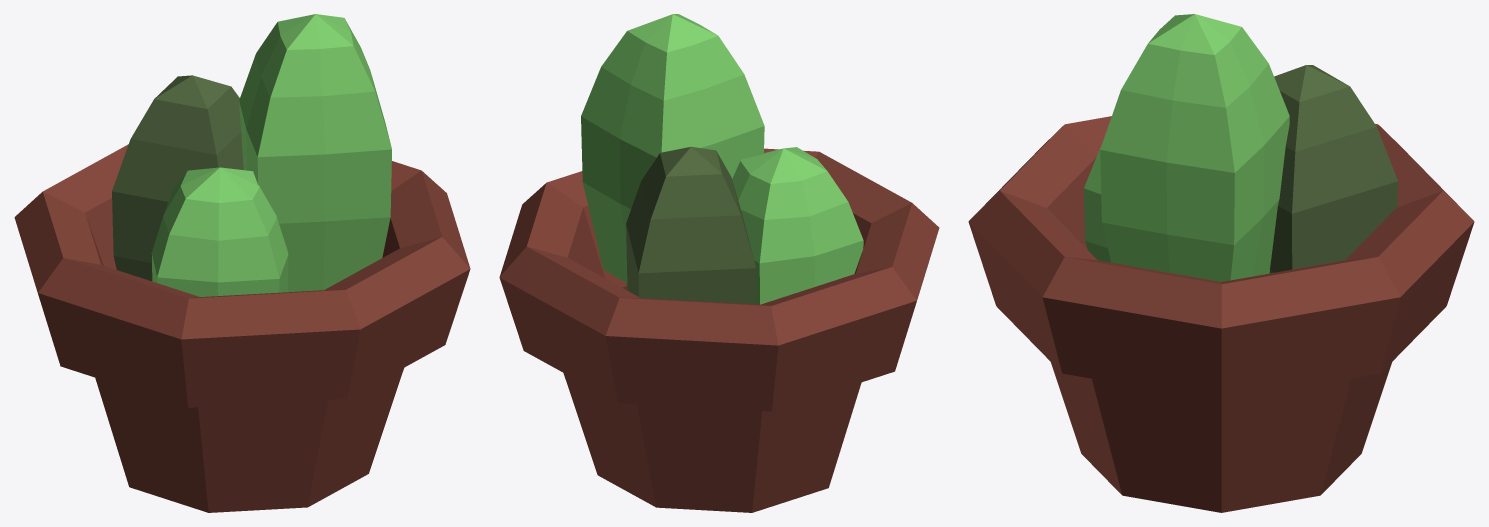
File: Triple Cactus.fbx
3 views of the same model, side by side, from view 1: azimuth 30°, elevation 25°; view 2: azimuth 150°, elevation 25°; view 3: azimuth 270°, elevation 25° (orthographic). The views are drawn at different scales.
Visible parts, largest first — view 1: Triple Cactus; view 2: Triple Cactus; view 3: Triple Cactus.
Part boxes in pixels (x1=…): Triple Cactus: x1=14, y1=14, x2=470, y2=512; Triple Cactus: x1=499, y1=14, x2=939, y2=512; Triple Cactus: x1=968, y1=14, x2=1474, y2=512.
Size of the model in its own units: 0.2782 by 0.286 by 0.2782.
